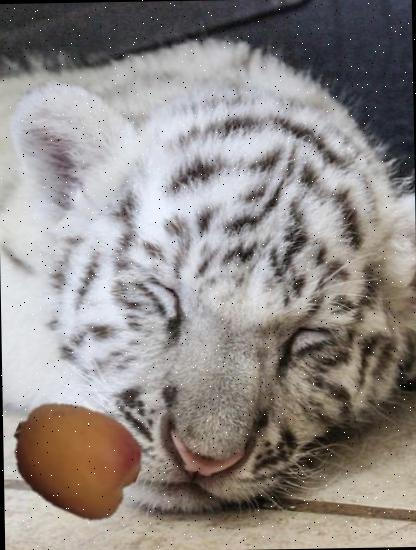Apricot: (8, 392, 140, 524)
